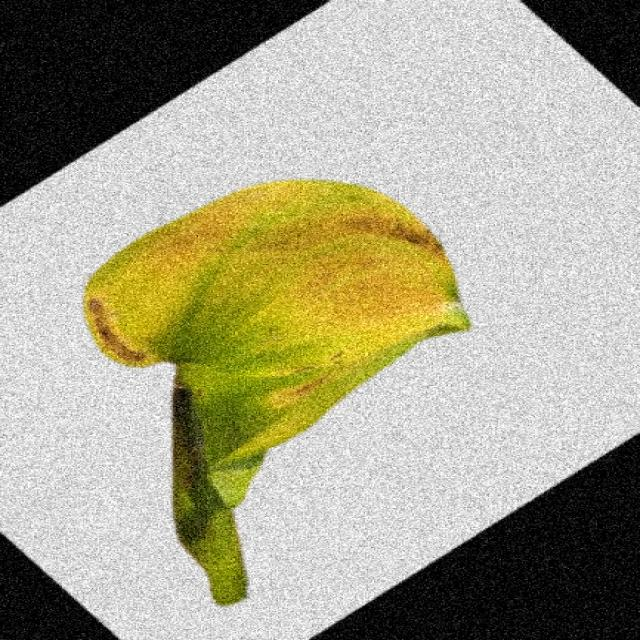daun berpenyakit kuning: (85, 181, 470, 604)
